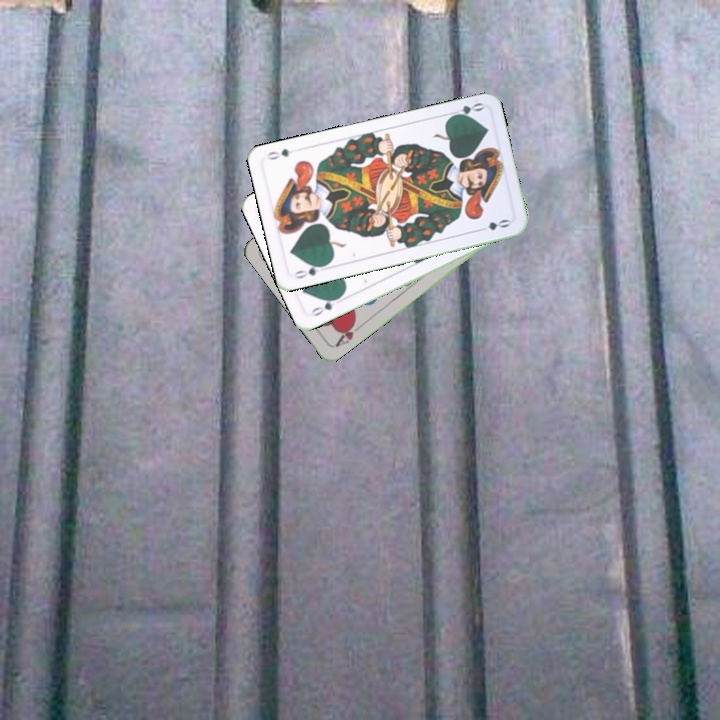GO: (306, 292, 343, 319), (445, 98, 486, 120), (289, 260, 329, 281)
HA: (331, 317, 365, 350)
